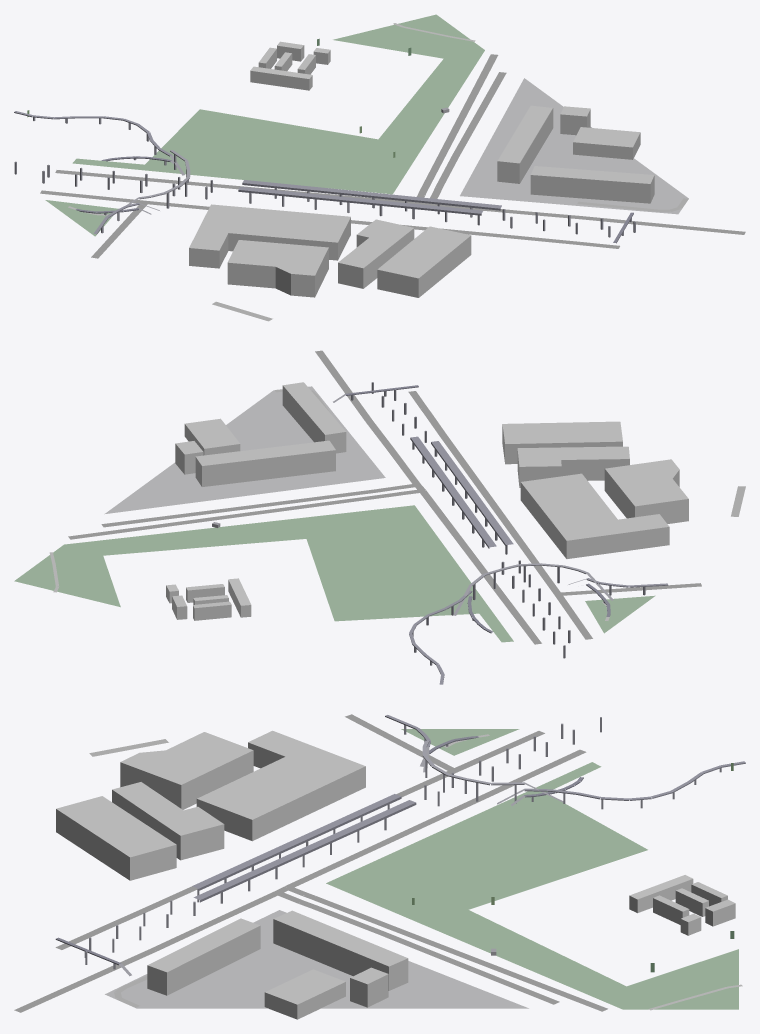
The picture shows the model from 3 angles, top to bottom: view 1: azimuth 30°, elevation 25°; view 2: azimuth 150°, elevation 25°; view 3: azimuth 270°, elevation 25°; orthographic projection. The views are drawn at different scales.
Bounding box in the file's own units: 545 × 22.68 × 550.
